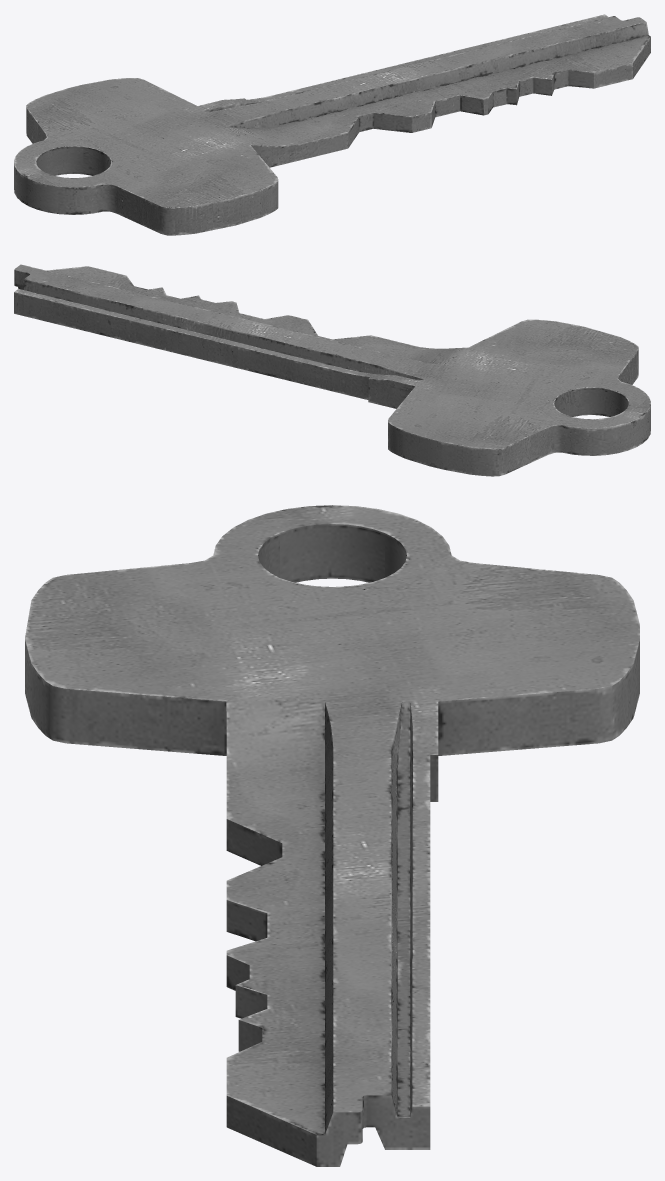
The model's file is KEY.fbx.
The picture shows the model from 3 angles, top to bottom: view 1: azimuth 30°, elevation 25°; view 2: azimuth 150°, elevation 25°; view 3: azimuth 270°, elevation 25°; orthographic projection. The views are drawn at different scales.
Parts seen in each view (by area): view 1: Circle; view 2: Circle; view 3: Circle.
Boxes of the visible parts, x1,y1,x2,y2 form: Circle: [14, 14, 650, 235]; Circle: [14, 264, 650, 476]; Circle: [25, 505, 639, 1166].
Bounding box in the file's own units: 562 × 23.56 × 241.
